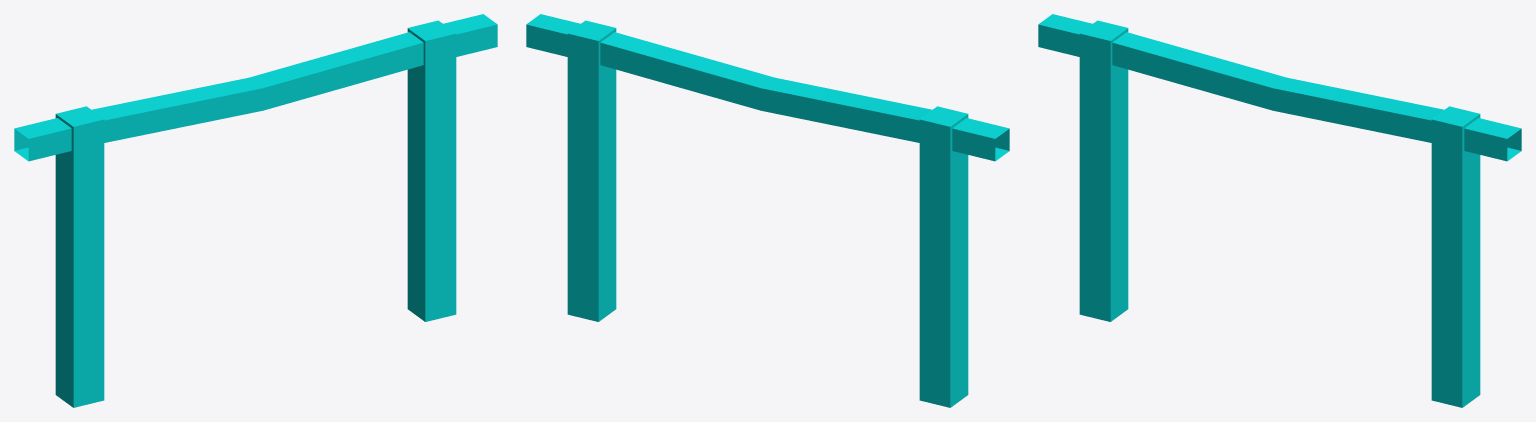
The model's file is m_supportfull.fbx.
3 views of the same model, side by side, from view 1: azimuth 30°, elevation 25°; view 2: azimuth 150°, elevation 25°; view 3: azimuth 330°, elevation 25° (orthographic).
Parts seen in each view (by area): view 1: m_supportfull; view 2: m_supportfull; view 3: m_supportfull.
Part boxes in pixels (x1,y1,x2,y2): m_supportfull: (14, 14, 497, 407); m_supportfull: (526, 14, 1009, 407); m_supportfull: (1038, 14, 1521, 407).
Size of the model in its own units: 8 by 4.58 by 0.528.
